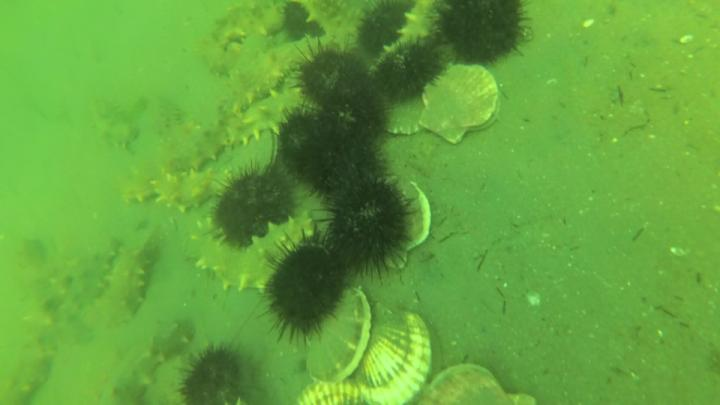echinus: (263, 241, 350, 338), (328, 179, 406, 275), (218, 169, 294, 247), (445, 1, 528, 65), (313, 147, 386, 209), (282, 106, 338, 185), (300, 46, 369, 109), (180, 342, 247, 405), (316, 96, 386, 153), (375, 45, 443, 101), (359, 1, 412, 58), (283, 1, 324, 41)
holothurian: (1, 237, 66, 403), (85, 317, 203, 405), (189, 216, 319, 295), (118, 121, 222, 207), (93, 219, 166, 331), (226, 40, 328, 113), (220, 86, 311, 152), (56, 234, 119, 325), (151, 166, 237, 216), (212, 1, 286, 49), (88, 94, 143, 152), (300, 1, 369, 38), (392, 1, 445, 48), (199, 35, 243, 76)
scallop: (361, 303, 437, 405), (303, 285, 374, 387), (423, 64, 506, 148), (419, 362, 539, 405), (384, 176, 435, 271), (290, 381, 391, 405), (379, 96, 431, 137)
